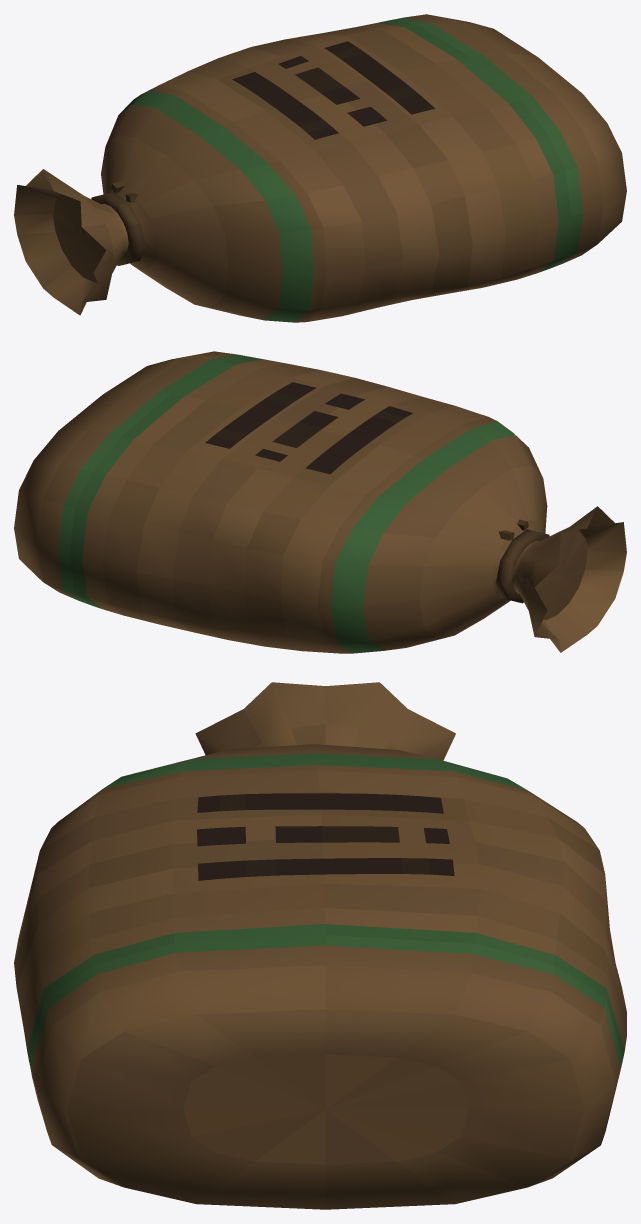
The model's file is coffee-beans-sack-carry.glb.
3 renders of one model, top to bottom at view 1: azimuth 30°, elevation 25°; view 2: azimuth 150°, elevation 25°; view 3: azimuth 270°, elevation 25°, orthographic. The views are drawn at different scales.
Visible parts, largest first — view 1: coffee-beans-sack-carry; view 2: coffee-beans-sack-carry; view 3: coffee-beans-sack-carry.
Boxes of the visible parts, x1=… form: coffee-beans-sack-carry: x1=14, y1=14, x2=626, y2=322; coffee-beans-sack-carry: x1=14, y1=351, x2=626, y2=653; coffee-beans-sack-carry: x1=14, y1=682, x2=626, y2=1209.
Size of the model in its own units: 0.63 by 0.2208 by 0.4725.
